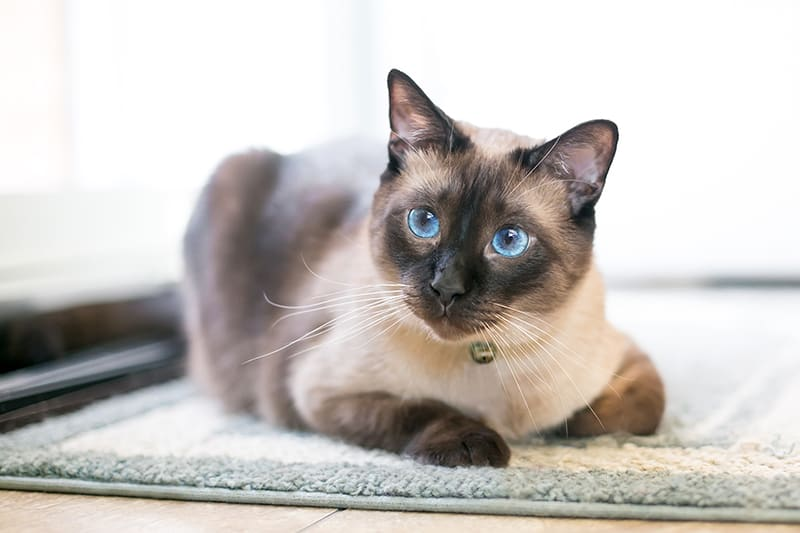cat: (347, 42, 674, 359)
